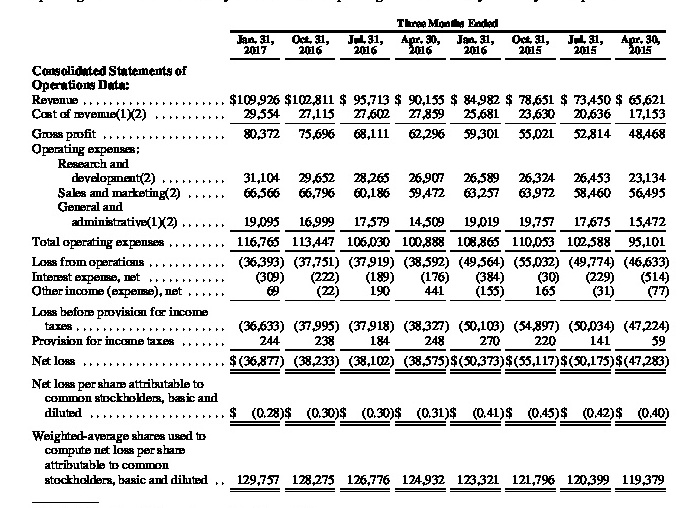table: (0, 0, 691, 508)
